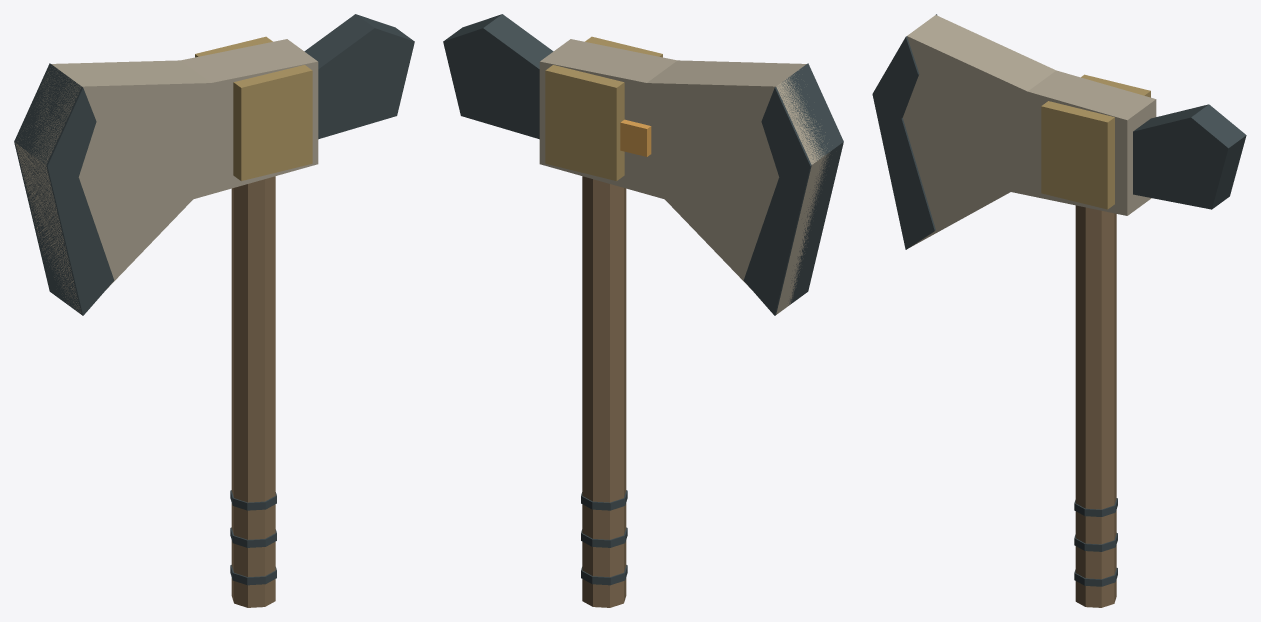
File: Arsenal_KilnQuenchAxe.fbx
3 renders of one model, left to right at view 1: azimuth 30°, elevation 25°; view 2: azimuth 150°, elevation 25°; view 3: azimuth 330°, elevation 25°, orthographic. The views are drawn at different scales.
Parts seen in each view (by area): view 1: Arsenal_KilnQuenchAxe; view 2: Arsenal_KilnQuenchAxe; view 3: Arsenal_KilnQuenchAxe.
Part boxes in pixels (x1,y1,x2,y2): Arsenal_KilnQuenchAxe: [14, 14, 414, 607]; Arsenal_KilnQuenchAxe: [443, 14, 843, 607]; Arsenal_KilnQuenchAxe: [872, 14, 1246, 607].
Size of the model in its own units: 0.84 by 1.22 by 0.18.
